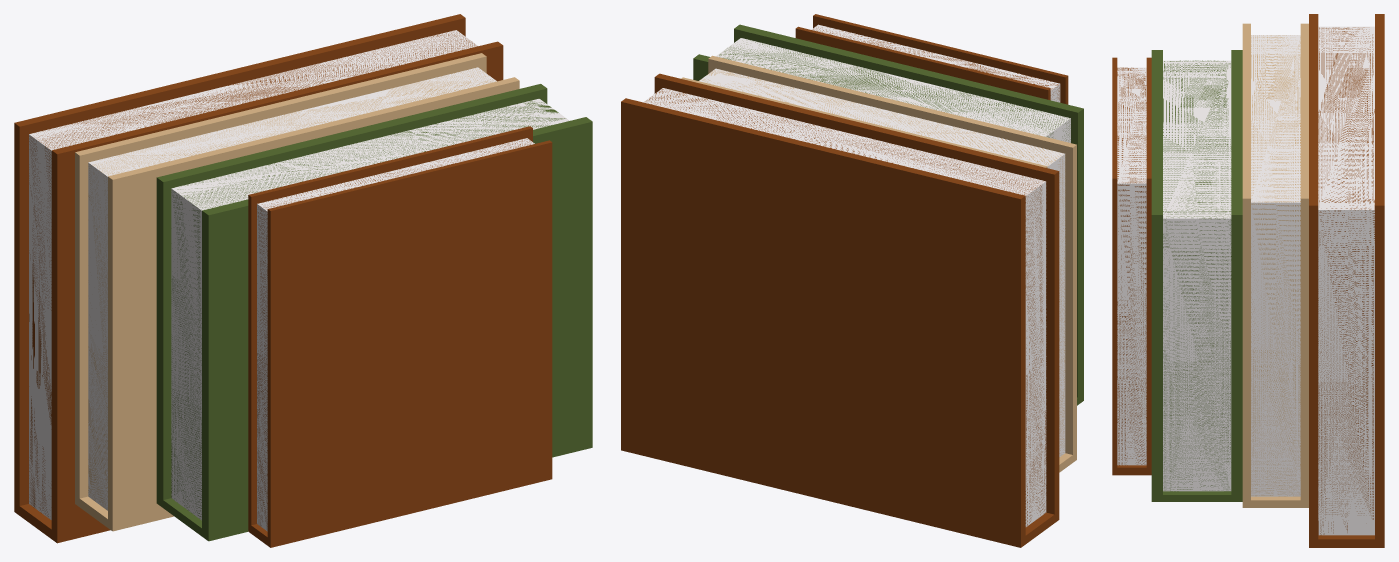
The picture shows the model from 3 angles, left to right: view 1: azimuth 30°, elevation 25°; view 2: azimuth 150°, elevation 25°; view 3: azimuth 270°, elevation 25°; orthographic projection. The views are drawn at different scales.
Parts seen in each view (by area): view 1: books vertical; view 2: books vertical; view 3: books vertical.
Boxes of the visible parts, x1,y1,x2,y2 form: books vertical: [14, 14, 592, 547]; books vertical: [621, 14, 1083, 547]; books vertical: [1112, 14, 1384, 547].
Bounding box in the file's own units: 13.68 × 11.4 × 8.21.
